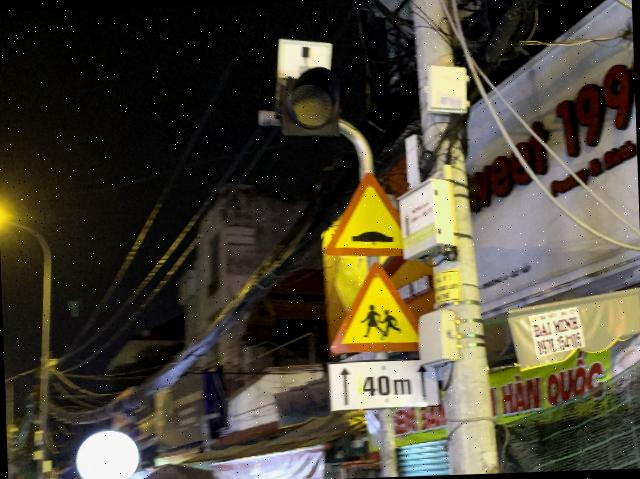duong-co-go-giam-toc: (322, 171, 403, 259)
tre-em-qua-duong: (328, 261, 420, 354)
